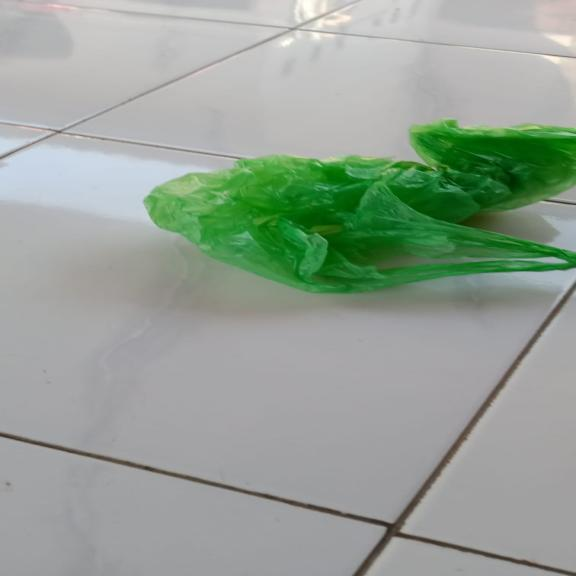Plastik: (141, 118, 576, 295)
